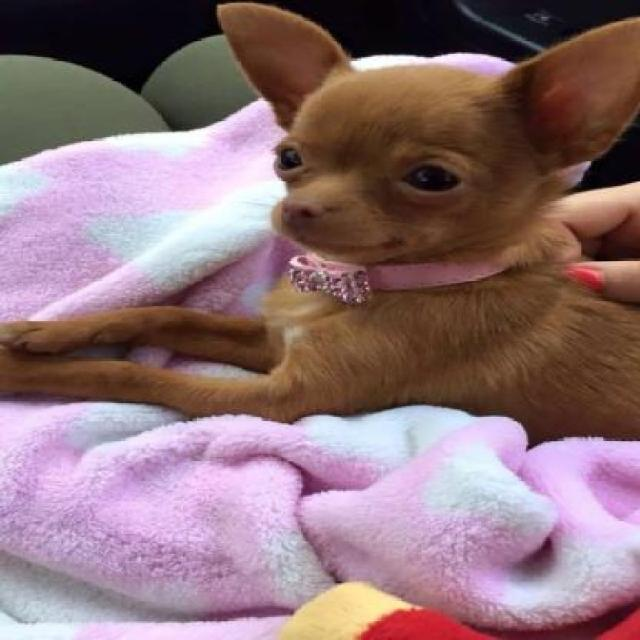animals: (163, 0, 591, 440)
